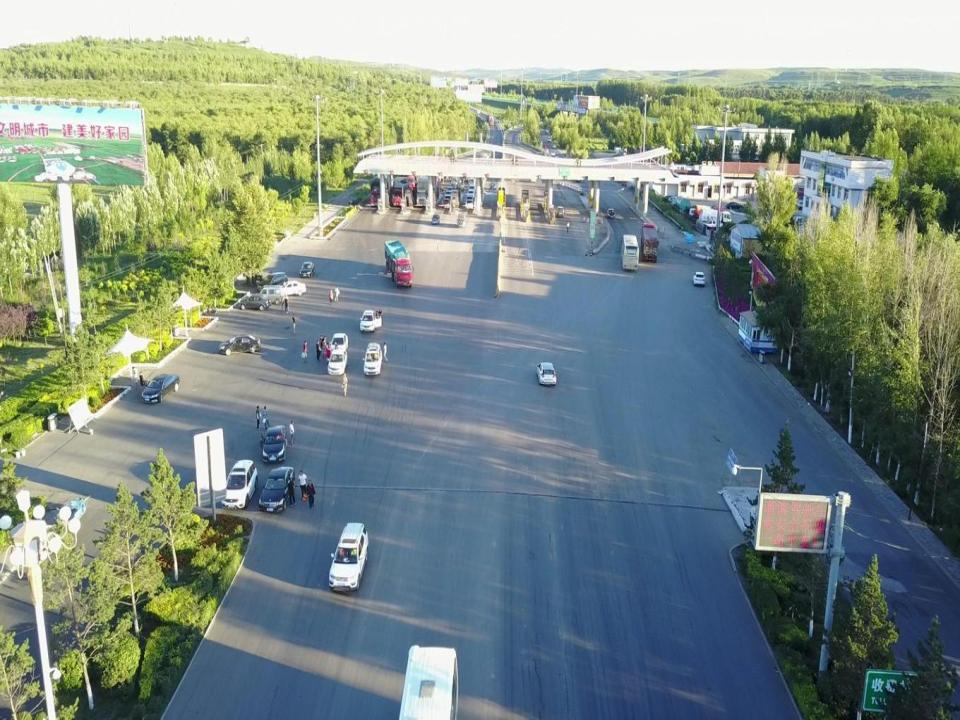bus: (620, 233, 639, 271)
car: (328, 521, 369, 591), (220, 459, 258, 509), (258, 466, 295, 513), (140, 372, 180, 404), (218, 332, 261, 356), (260, 425, 287, 463), (363, 342, 382, 376), (239, 294, 272, 312), (327, 348, 348, 376), (256, 272, 288, 290), (274, 280, 306, 296), (360, 309, 382, 332), (536, 362, 557, 386), (298, 262, 314, 278), (693, 271, 705, 286), (606, 208, 616, 219), (430, 214, 440, 225)
truck: (383, 239, 414, 288), (639, 222, 658, 263)
van: (396, 643, 460, 720), (256, 284, 284, 305), (457, 212, 466, 228), (556, 205, 564, 219)
